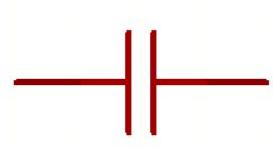Capacitor: (91, 24, 177, 138)
